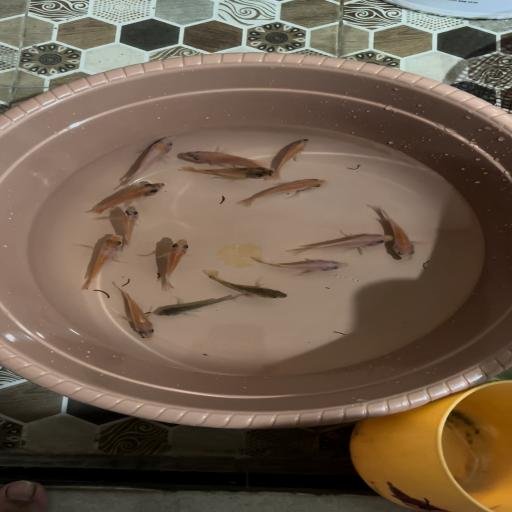nila: (73, 232, 128, 292), (202, 269, 292, 304), (89, 180, 171, 218), (238, 177, 331, 210), (288, 230, 392, 259), (370, 204, 418, 264), (152, 292, 241, 323), (110, 283, 158, 340), (124, 133, 178, 182), (248, 254, 349, 277), (157, 236, 195, 292), (180, 147, 267, 168), (273, 136, 318, 176), (180, 166, 276, 183), (112, 204, 148, 248)
